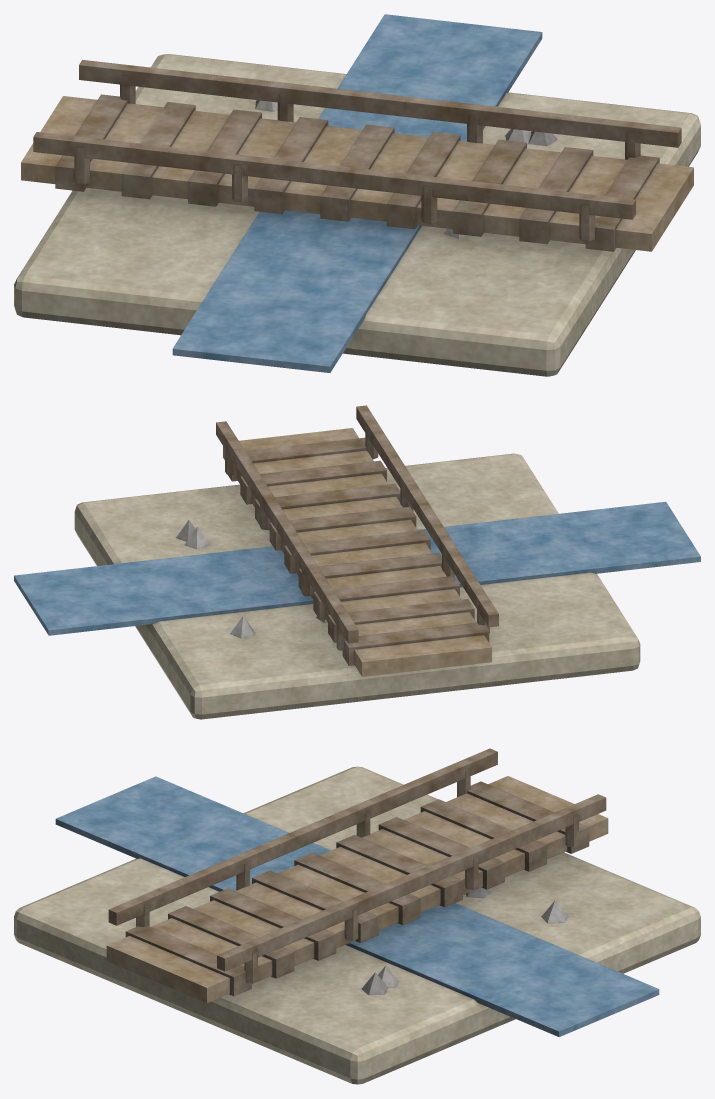
The model's file is bridge_d.glb.
3 renders of one model, top to bottom at view 1: azimuth 30°, elevation 25°; view 2: azimuth 150°, elevation 25°; view 3: azimuth 270°, elevation 25°, orthographic. The views are drawn at different scales.
Visible parts, largest first — view 1: dilek; view 2: dilek; view 3: dilek.
Boxes of the visible parts, box(x1,y1,x2,y2) form: dilek: box(14, 14, 700, 376); dilek: box(14, 405, 700, 719); dilek: box(14, 748, 700, 1084).
Bounding box in the file's own units: 2.42 × 0.35 × 2.42.
1 material, 1 textured.
